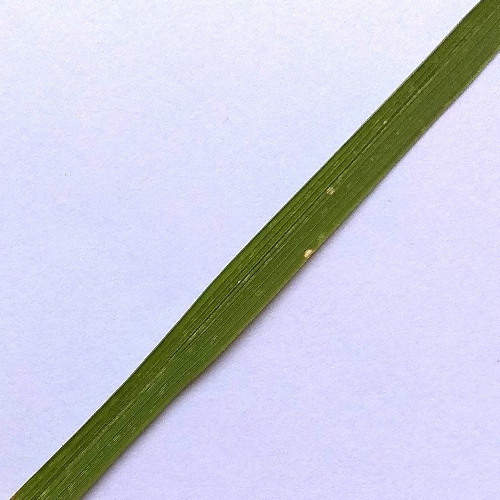Busuk Leher: (298, 242, 323, 264), (322, 180, 340, 200)
